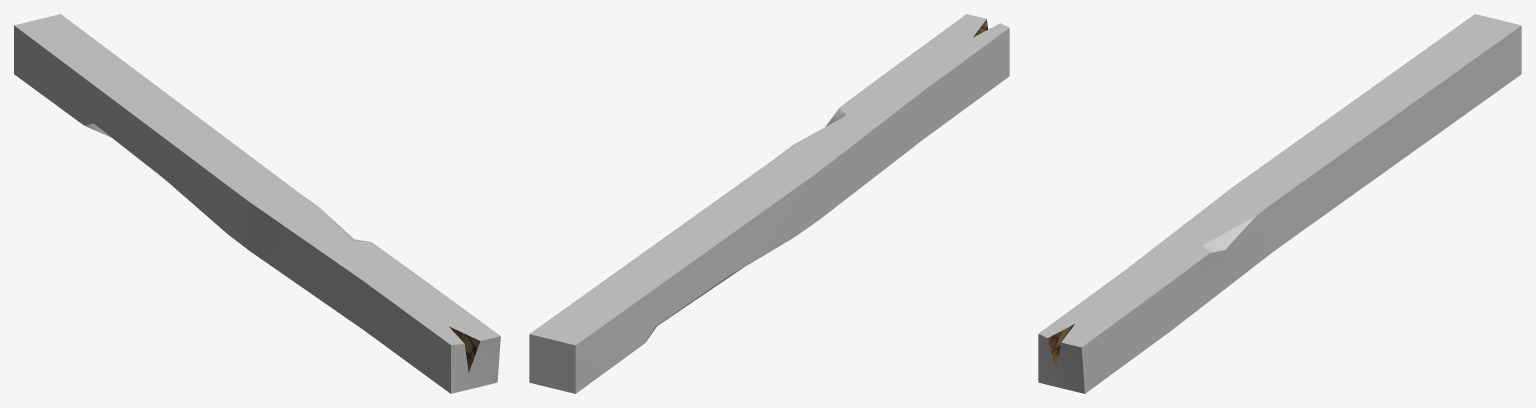
The model's file is lower_city_beam_medium_01.fbx.
3 views of the same model, side by side, from view 1: azimuth 30°, elevation 25°; view 2: azimuth 150°, elevation 25°; view 3: azimuth 330°, elevation 25° (orthographic).
Parts seen in each view (by area): view 1: lower_city_beam_medium_01; view 2: lower_city_beam_medium_01; view 3: lower_city_beam_medium_01.
Part boxes in pixels (x1,y1,x2,y2): lower_city_beam_medium_01: [14, 14, 500, 393]; lower_city_beam_medium_01: [529, 14, 1009, 393]; lower_city_beam_medium_01: [1038, 14, 1521, 393].
Bounding box in the file's own units: 0.2705 × 0.247 × 4.03.
